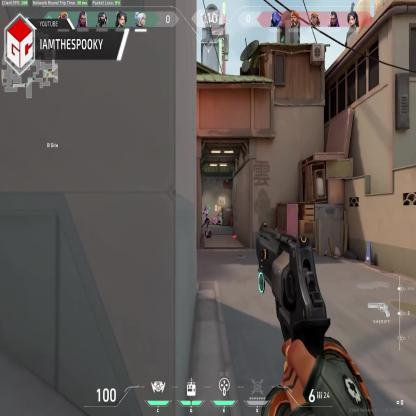enemy: (201, 204, 210, 230)
enemy_head: (206, 207, 208, 211)
